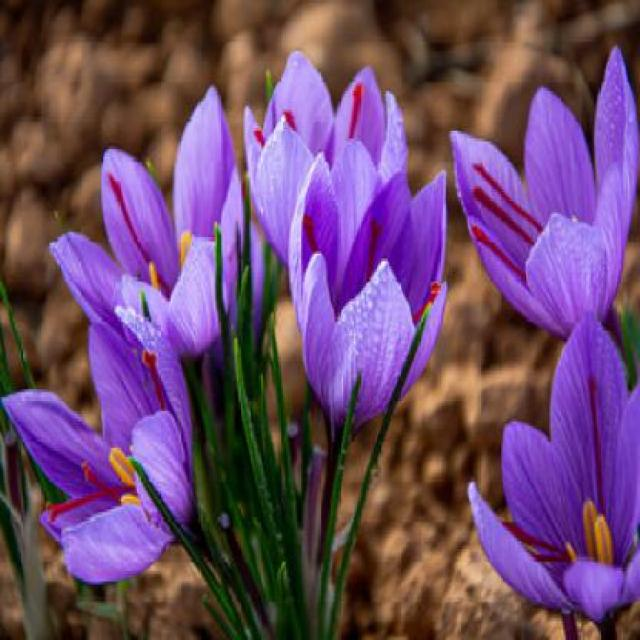Flower: (6, 320, 217, 595), (443, 52, 635, 332), (463, 336, 639, 632), (76, 122, 276, 376), (286, 149, 454, 451)
stigma: (567, 363, 624, 568), (44, 429, 153, 533), (93, 158, 166, 286), (475, 130, 566, 224), (469, 152, 546, 245), (468, 224, 528, 297), (136, 339, 174, 405), (338, 77, 369, 138), (363, 210, 387, 278), (296, 198, 317, 260)
